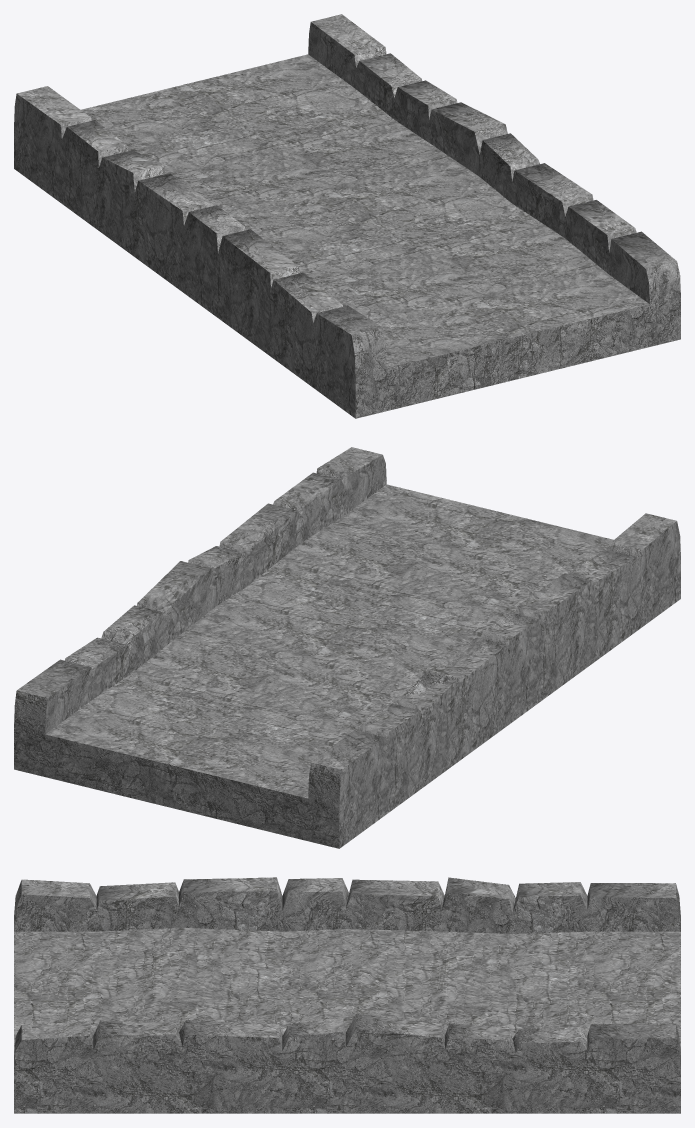
Rendered from materials_3_road_0.fbx.
3 renders of one model, top to bottom at view 1: azimuth 30°, elevation 25°; view 2: azimuth 150°, elevation 25°; view 3: azimuth 270°, elevation 25°, orthographic. The views are drawn at different scales.
Visible parts, largest first — view 1: materials_3_road_0; view 2: materials_3_road_0; view 3: materials_3_road_0.
Boxes of the visible parts, x1,y1,x2,y2 form: materials_3_road_0: [14, 14, 680, 418]; materials_3_road_0: [14, 447, 680, 848]; materials_3_road_0: [14, 877, 680, 1113].
Size of the model in its own units: 234 by 59.61 by 425.
